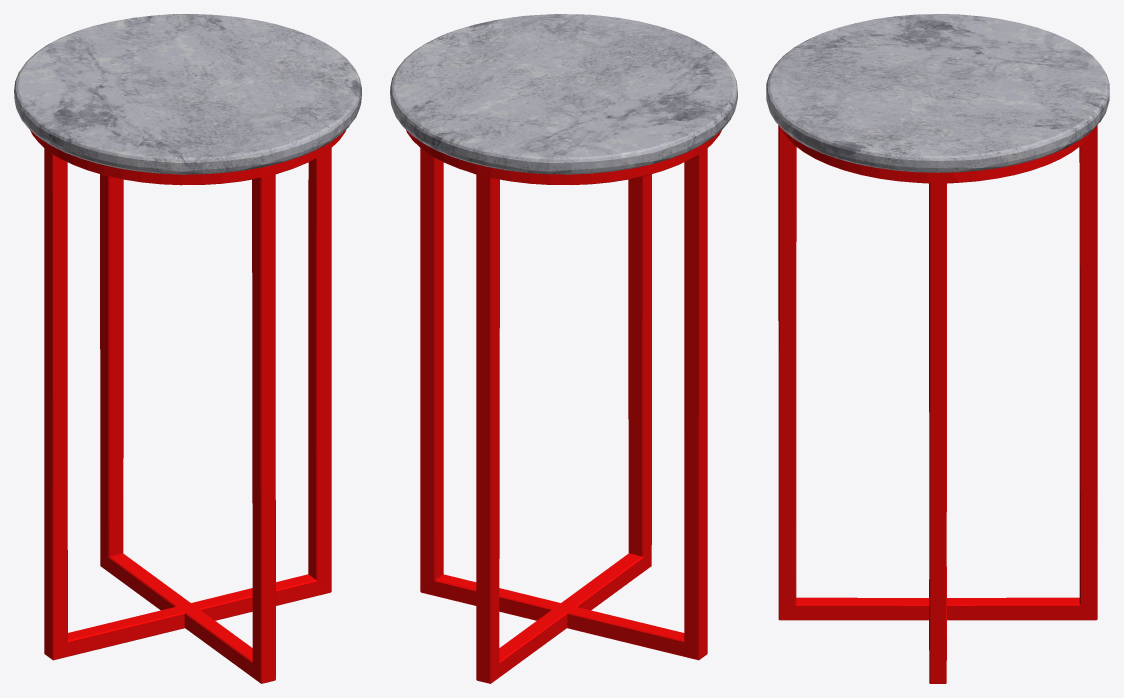
The model's file is Circle_Table.fbx.
3 renders of one model, left to right at view 1: azimuth 30°, elevation 25°; view 2: azimuth 150°, elevation 25°; view 3: azimuth 270°, elevation 25°, orthographic.
Parts seen in each view (by area): view 1: Circle_Table; view 2: Circle_Table; view 3: Circle_Table.
Part boxes in pixels (x1,y1,x2,y2): Circle_Table: (14, 14, 361, 683); Circle_Table: (390, 14, 737, 683); Circle_Table: (766, 14, 1109, 683).
Bounding box in the file's own units: 39.66 × 67.63 × 39.58.
Materials: 2 (1 with a texture image).
